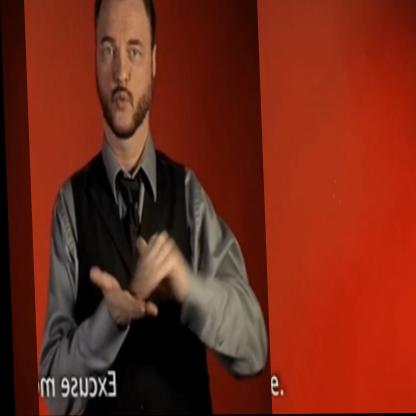ExcuseMe: (24, 0, 269, 416)
